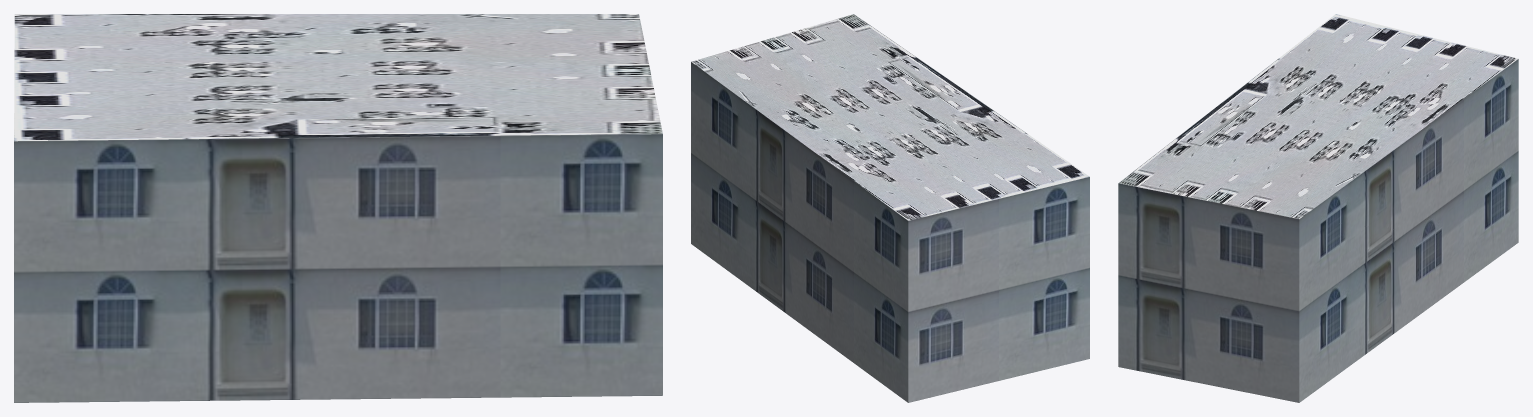
File: ResTex__5328.fbx
3 views of the same model, side by side, from view 1: azimuth 30°, elevation 25°; view 2: azimuth 150°, elevation 25°; view 3: azimuth 270°, elevation 25° (orthographic). The views are drawn at different scales.
Visible parts, largest first — view 1: CityEngineMaterial_17_m, CityEngineMaterial_2_m; view 2: CityEngineMaterial_17_m, CityEngineMaterial_2_m; view 3: CityEngineMaterial_17_m, CityEngineMaterial_2_m.
Part boxes in pixels (bbox=[...]): CityEngineMaterial_17_m: bbox=[14, 134, 662, 402]; CityEngineMaterial_2_m: bbox=[14, 14, 662, 141]; CityEngineMaterial_17_m: bbox=[691, 62, 1089, 402]; CityEngineMaterial_2_m: bbox=[691, 14, 1089, 220]; CityEngineMaterial_17_m: bbox=[1118, 59, 1518, 402]; CityEngineMaterial_2_m: bbox=[1118, 14, 1518, 218].
Size of the model in its own units: 14.37 by 6 by 11.84.
Materials: 2 (2 with a texture image).
